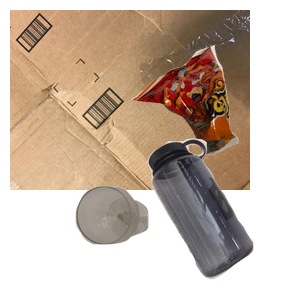cardboard: (10, 10, 250, 190)
glass: (73, 184, 214, 300)
plastic: (145, 136, 300, 300)
trash: (130, 43, 300, 190)
